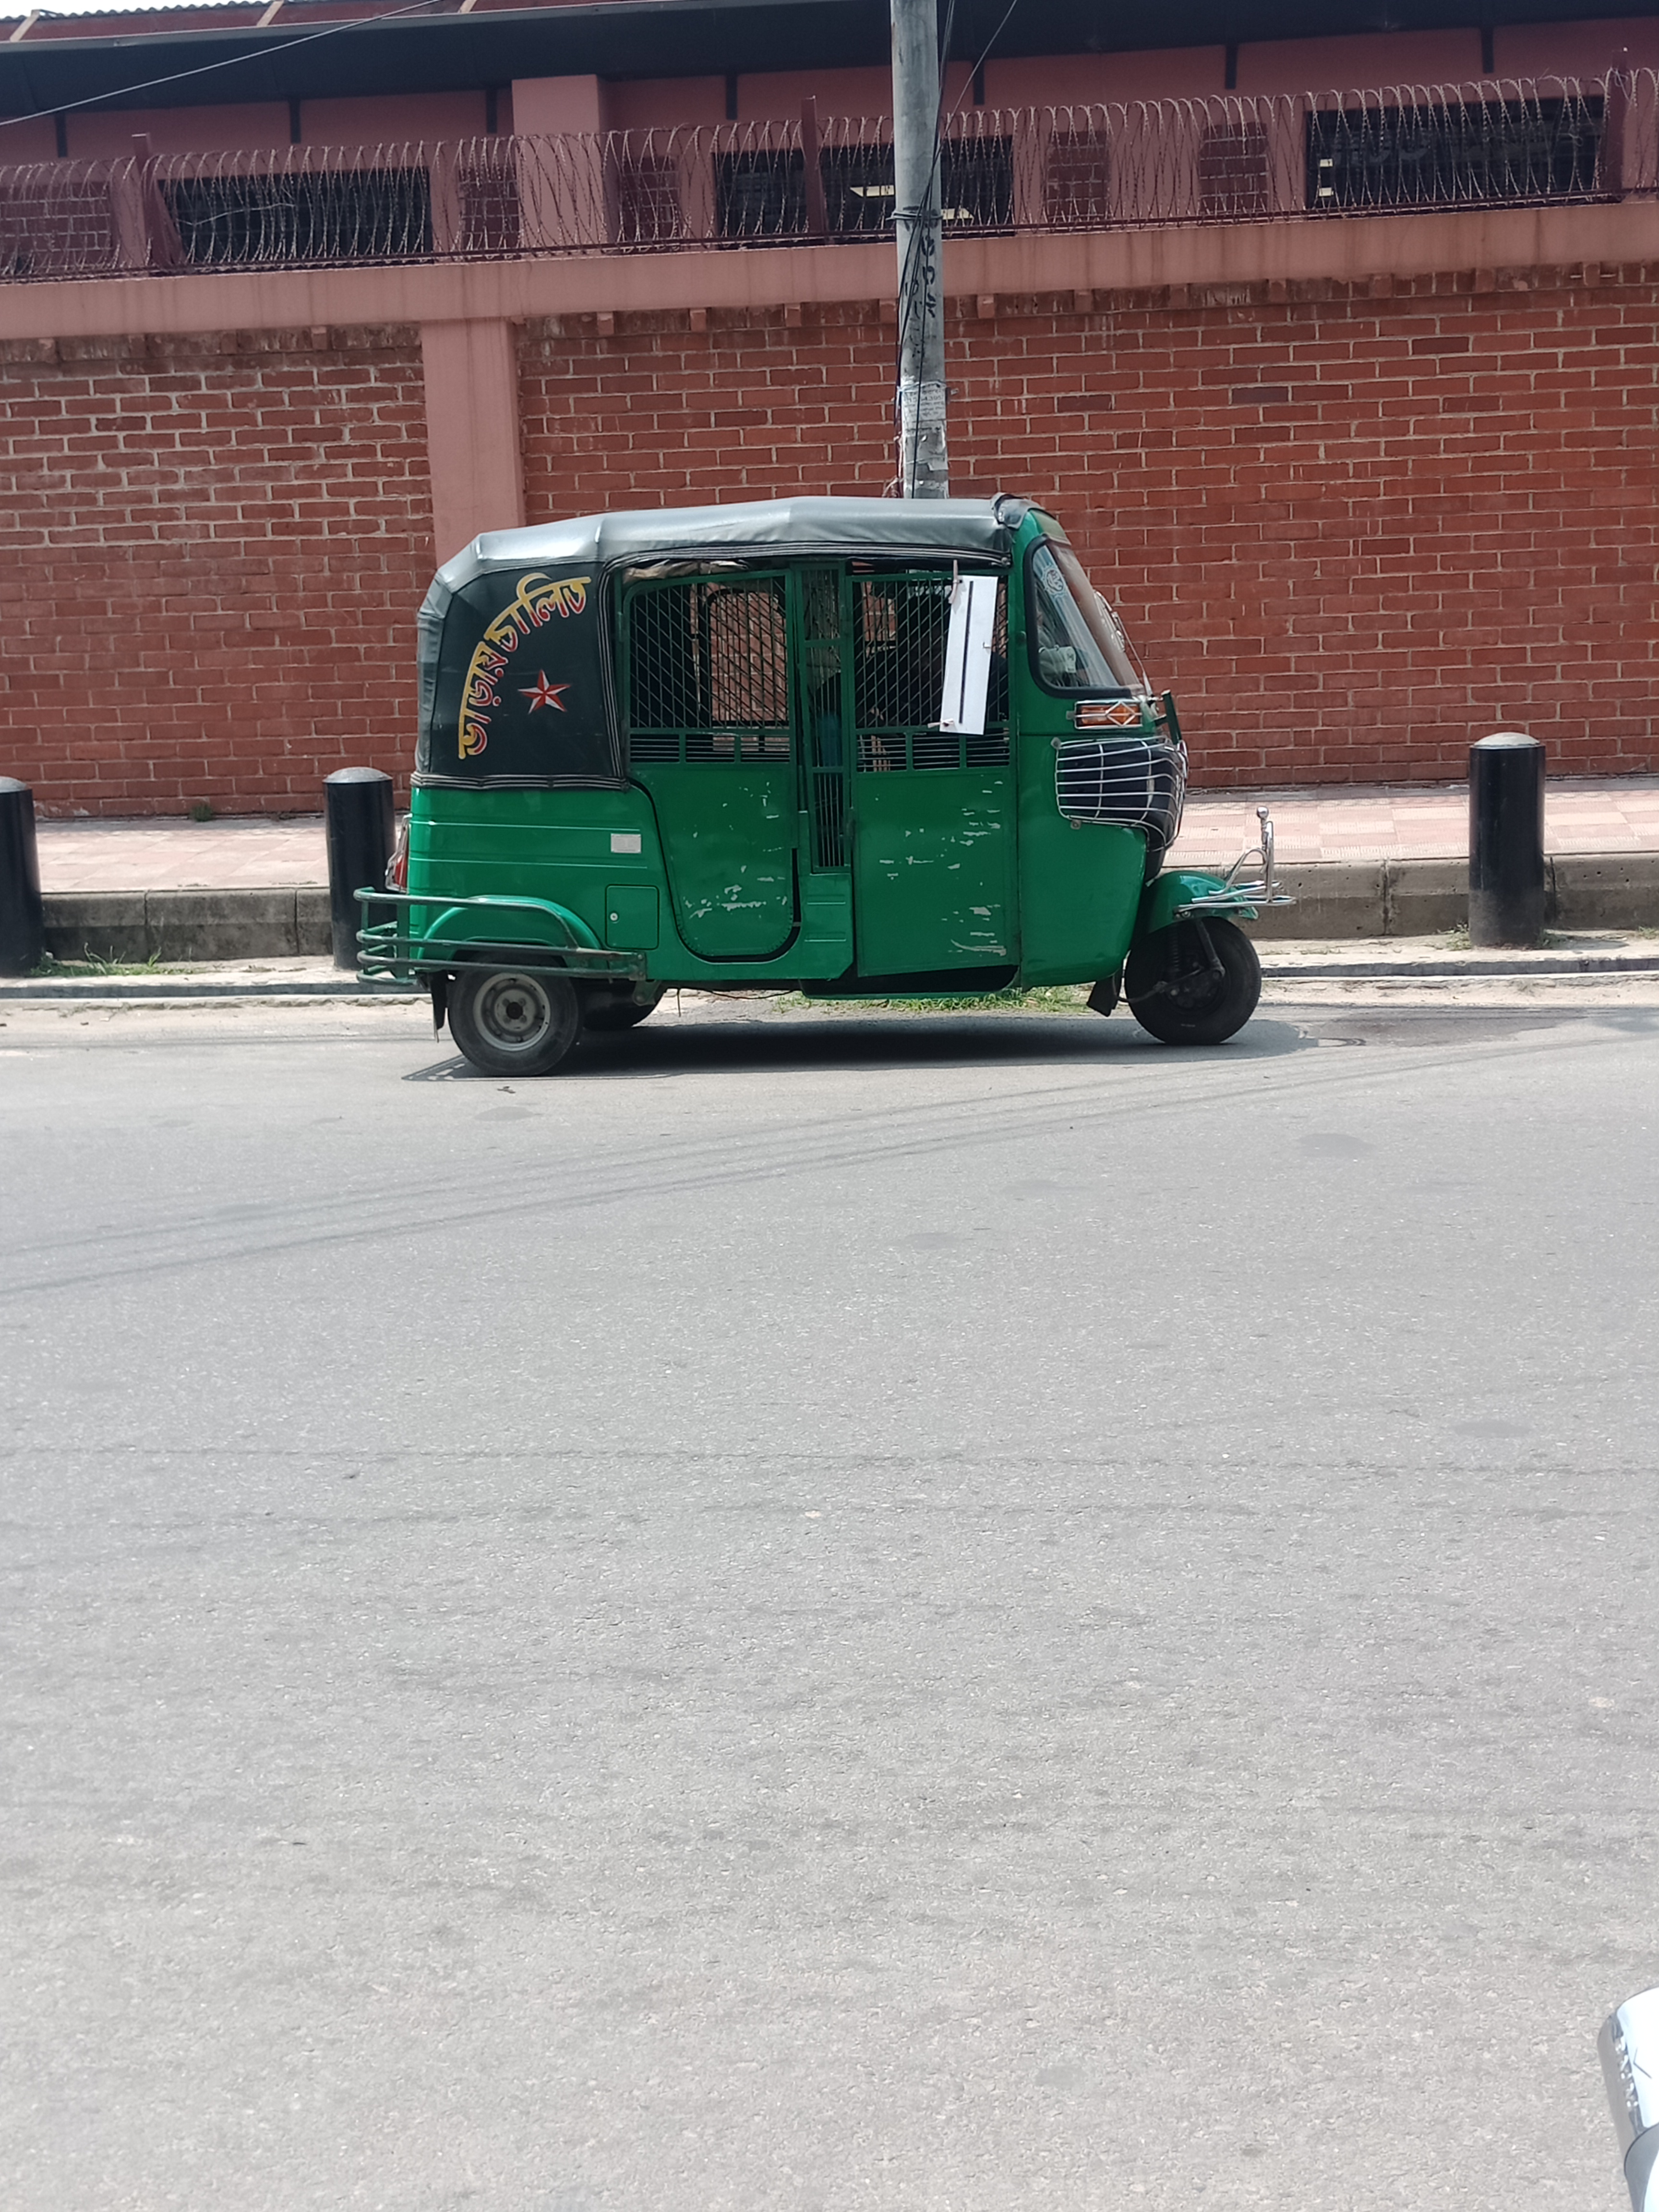cng: (347, 470, 1288, 1082)
